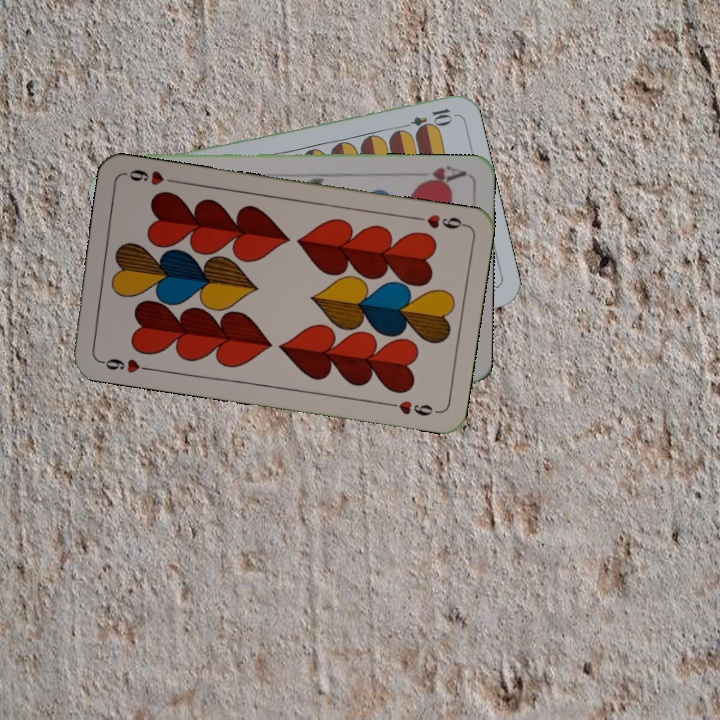E10: (396, 104, 455, 133)
H9: (409, 210, 469, 232), (94, 354, 153, 376)
HA: (412, 162, 469, 189)
